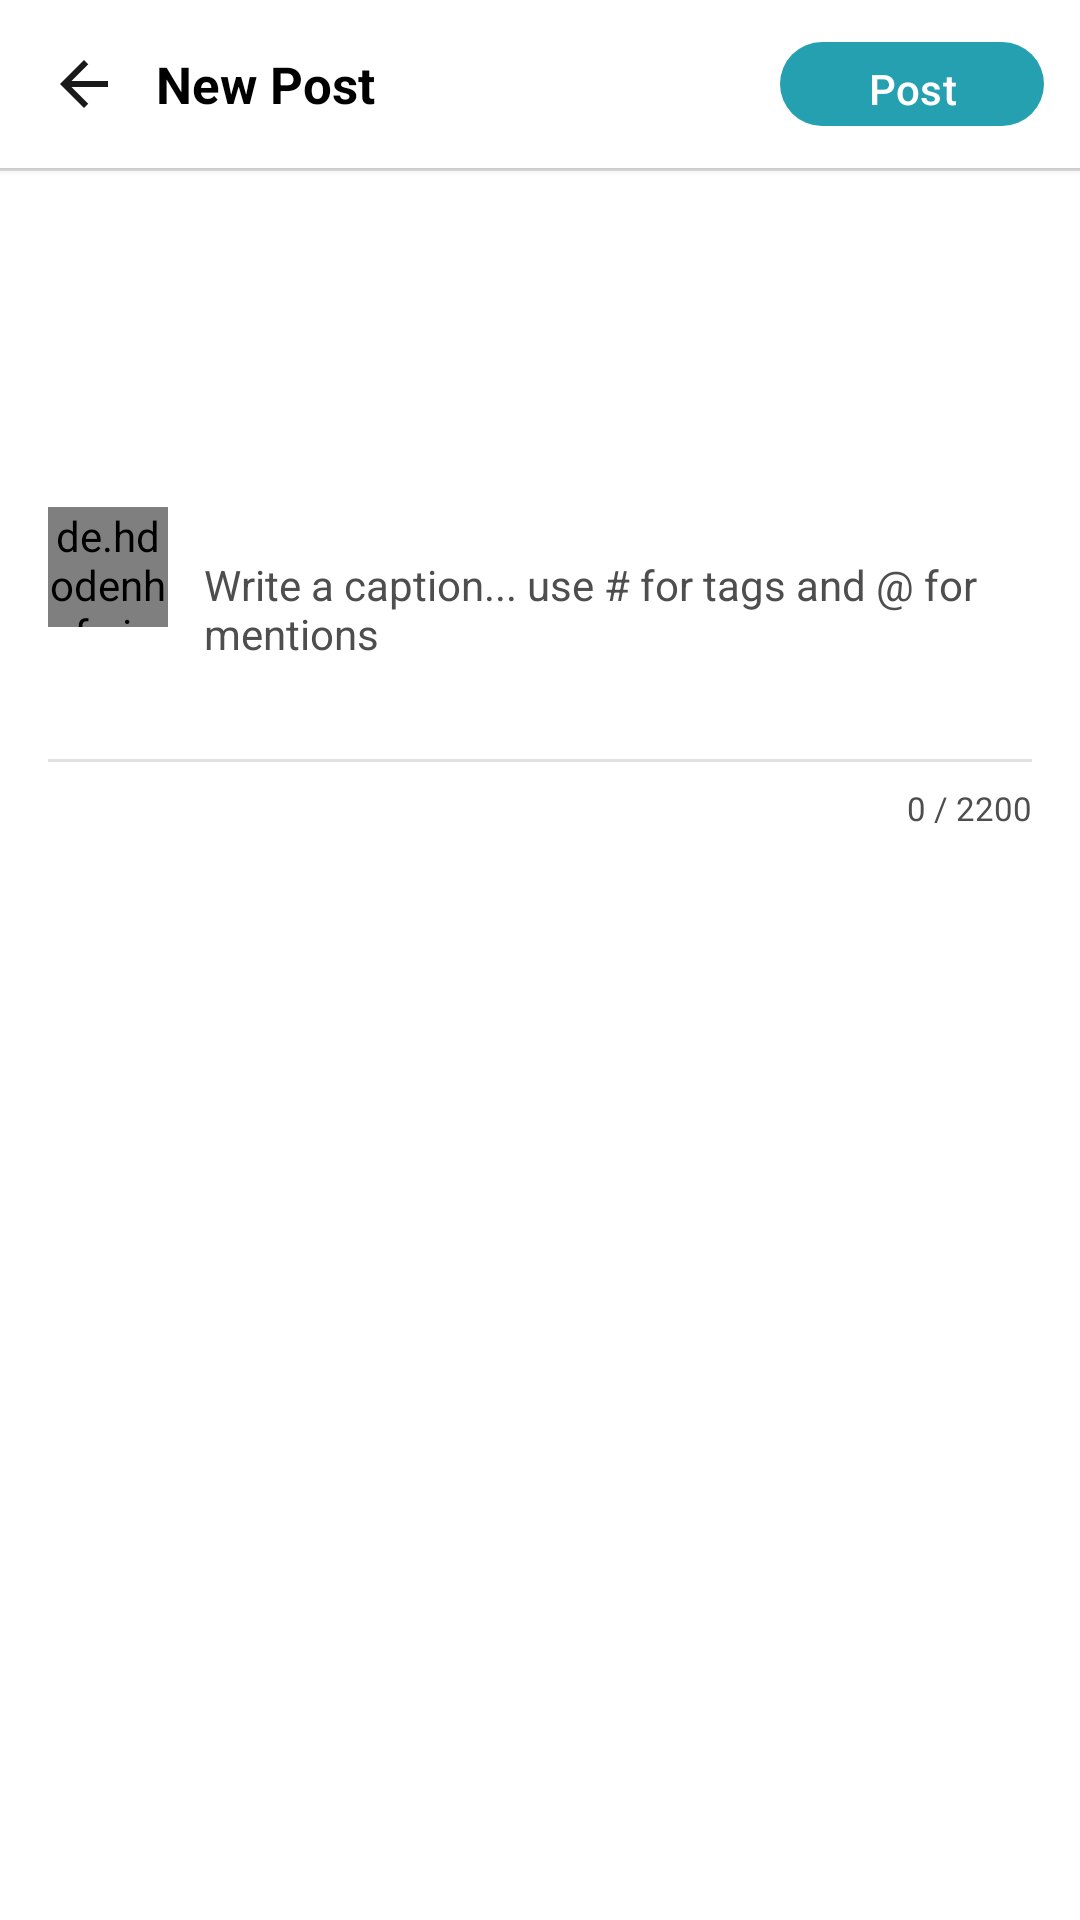

Where to tap for icons on this 1080x1920 app screen, as (x=x, y=y):
user profile back: (x=84, y=84)
